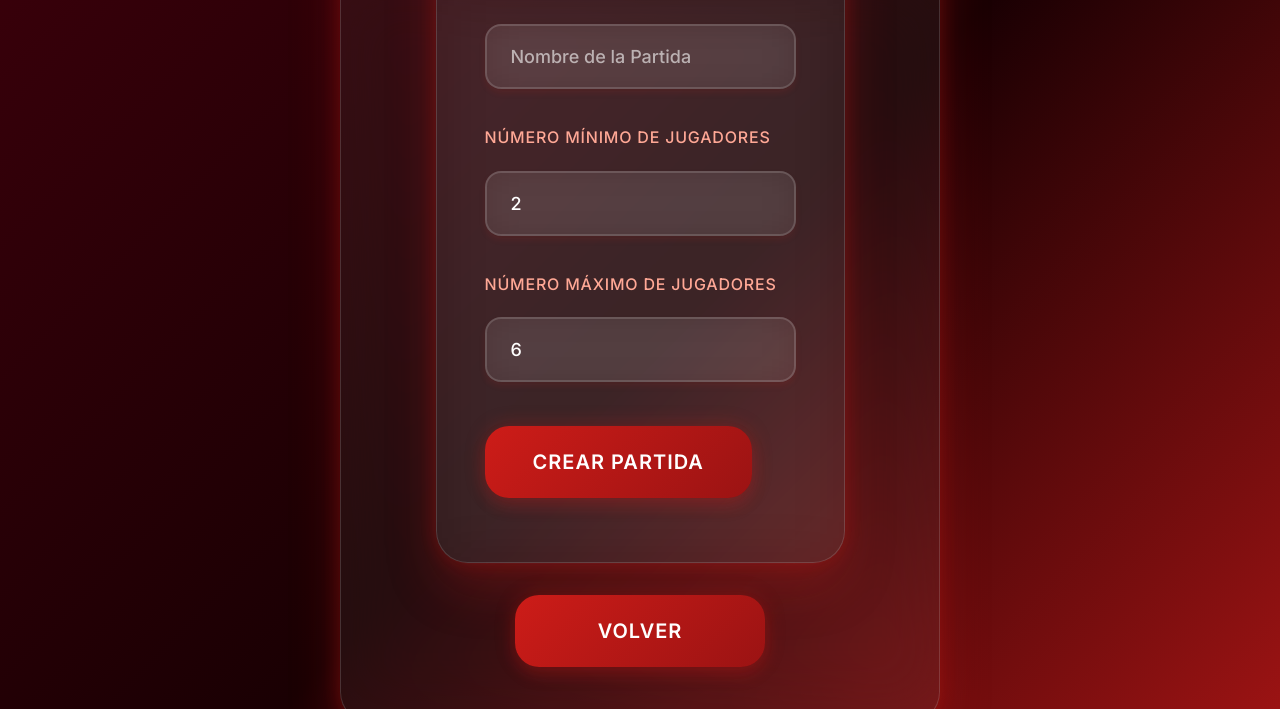
Test: CrearPartidaContainer - Validation Tests › Range Validation Tests (Requirements 1.3, 1.4) › should show error for boundary violations
(page scrolled)
Test upper boundary violation for max
Clear the 2nd number field with placeholder "Máximo de Jugadores": (640, 350) [484, 317, 796, 382]
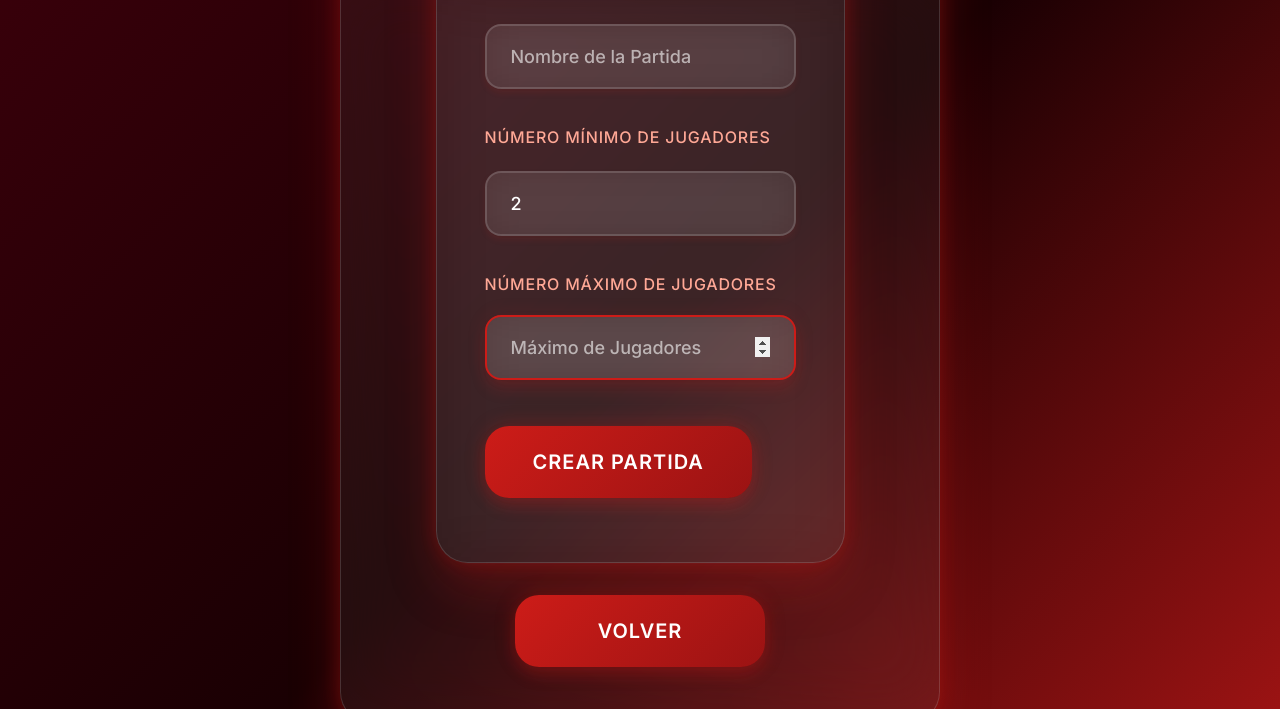
In the number field with placeholder "Máximo de Jugadores": (640, 348) [484, 315, 796, 380], type "8"
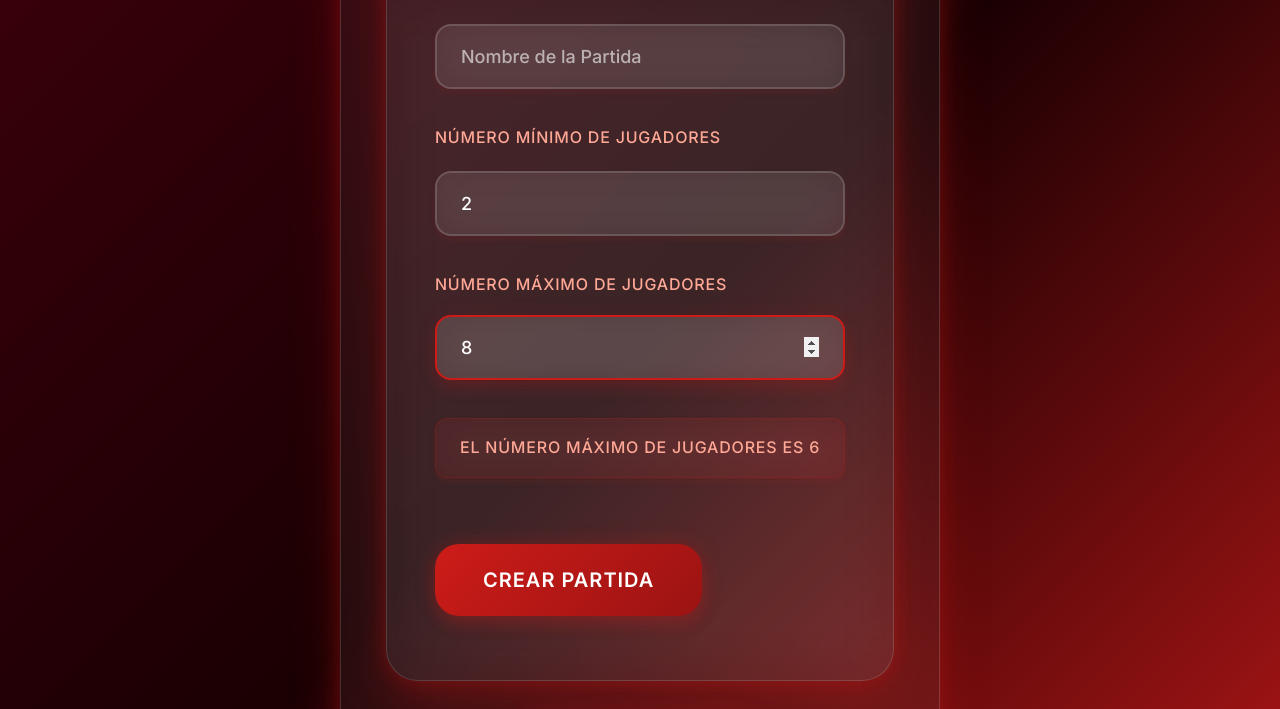
Result: the text "El número máximo de jugadores es 6" is shown at [435, 418, 845, 478]
Test lower boundary violation for min
Clear the 1st number field with placeholder "Mínimo de Jugadores": (640, 203) [435, 171, 845, 236]
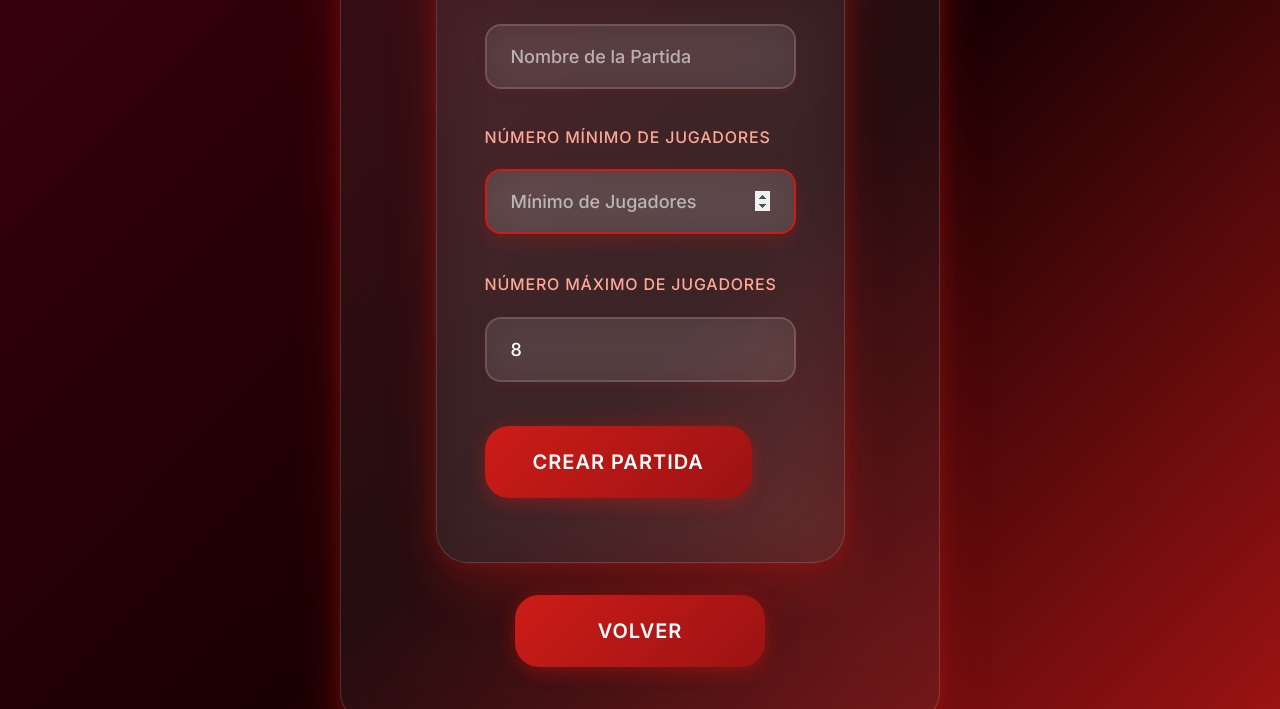
In the number field with placeholder "Mínimo de Jugadores": (640, 201) [484, 169, 796, 234], type "0"
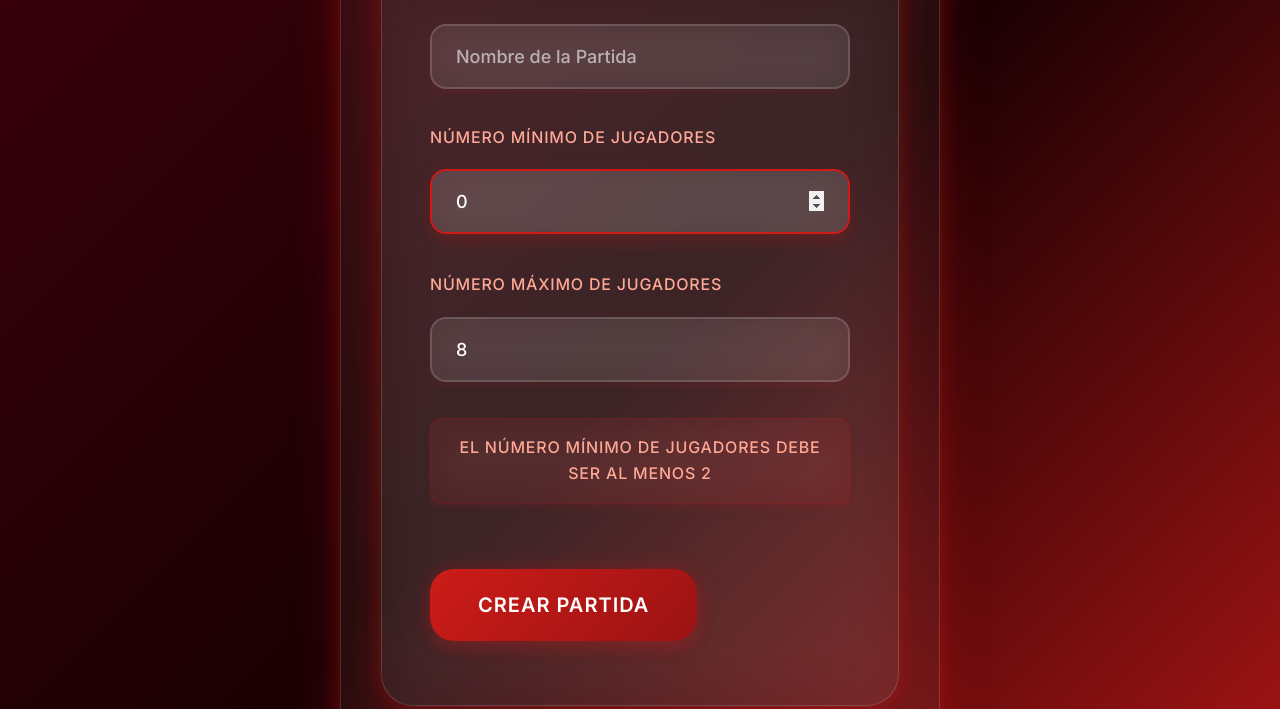
Result: the text "El número mínimo de jugadores debe ser al menos 2" is shown at [430, 418, 850, 504]
